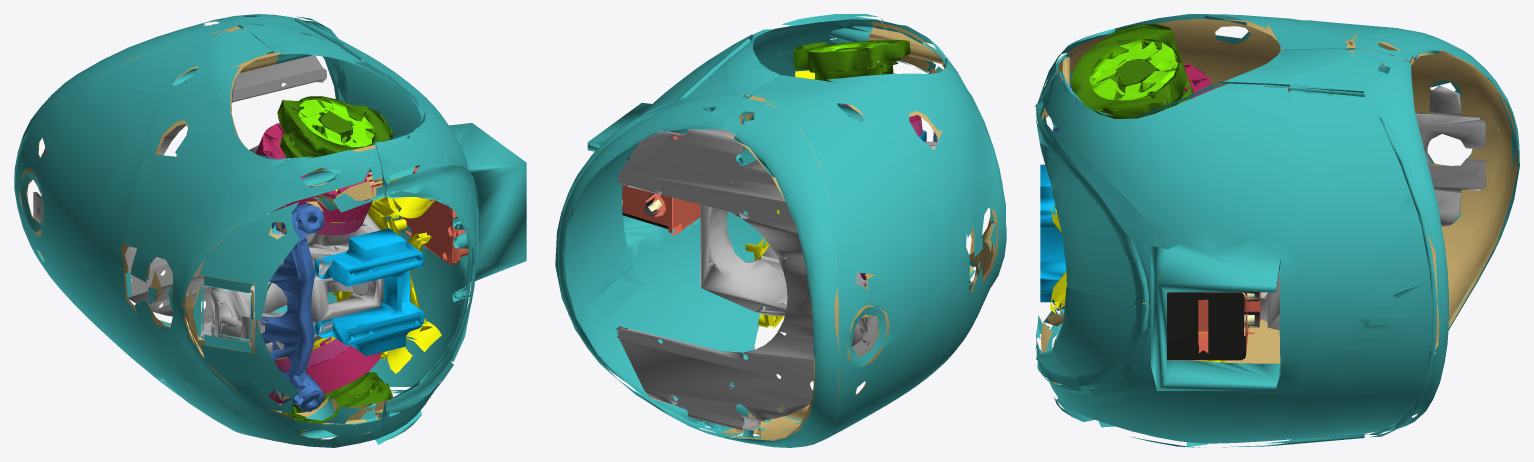
Rendered from sim_icub3_chest.obj.
3 views of the same model, side by side, from view 1: azimuth 30°, elevation 25°; view 2: azimuth 150°, elevation 25°; view 3: azimuth 270°, elevation 25° (orthographic). The views are drawn at different scales.
Bounding box in the file's own units: 236 × 206 × 245.
